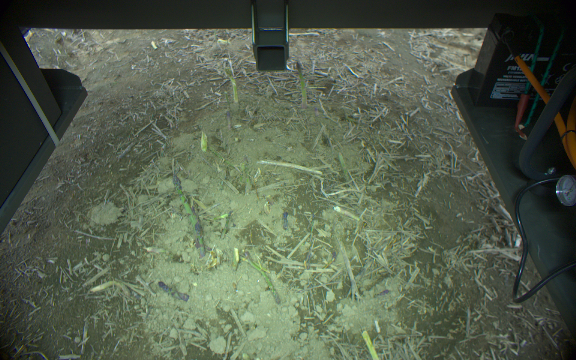aspa: (241, 250, 279, 306), (171, 175, 194, 224), (159, 278, 190, 304), (190, 220, 210, 260), (294, 61, 309, 109), (360, 327, 381, 360), (224, 70, 240, 104), (197, 132, 210, 154)
